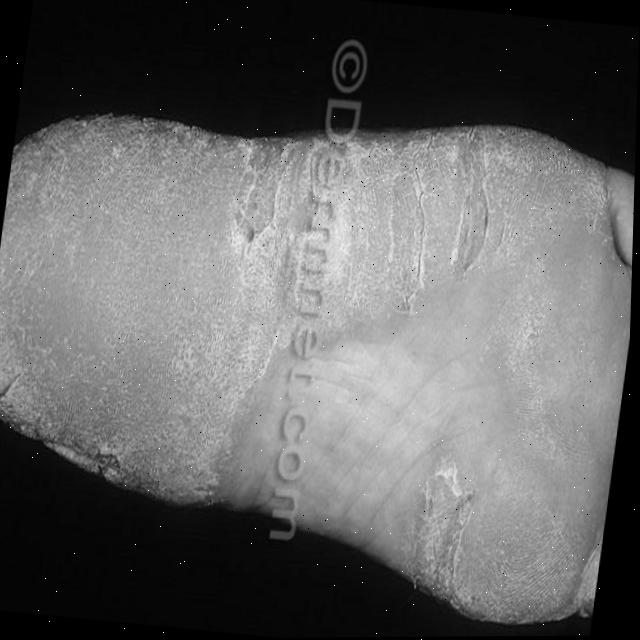Eczema: (0, 91, 637, 634)
